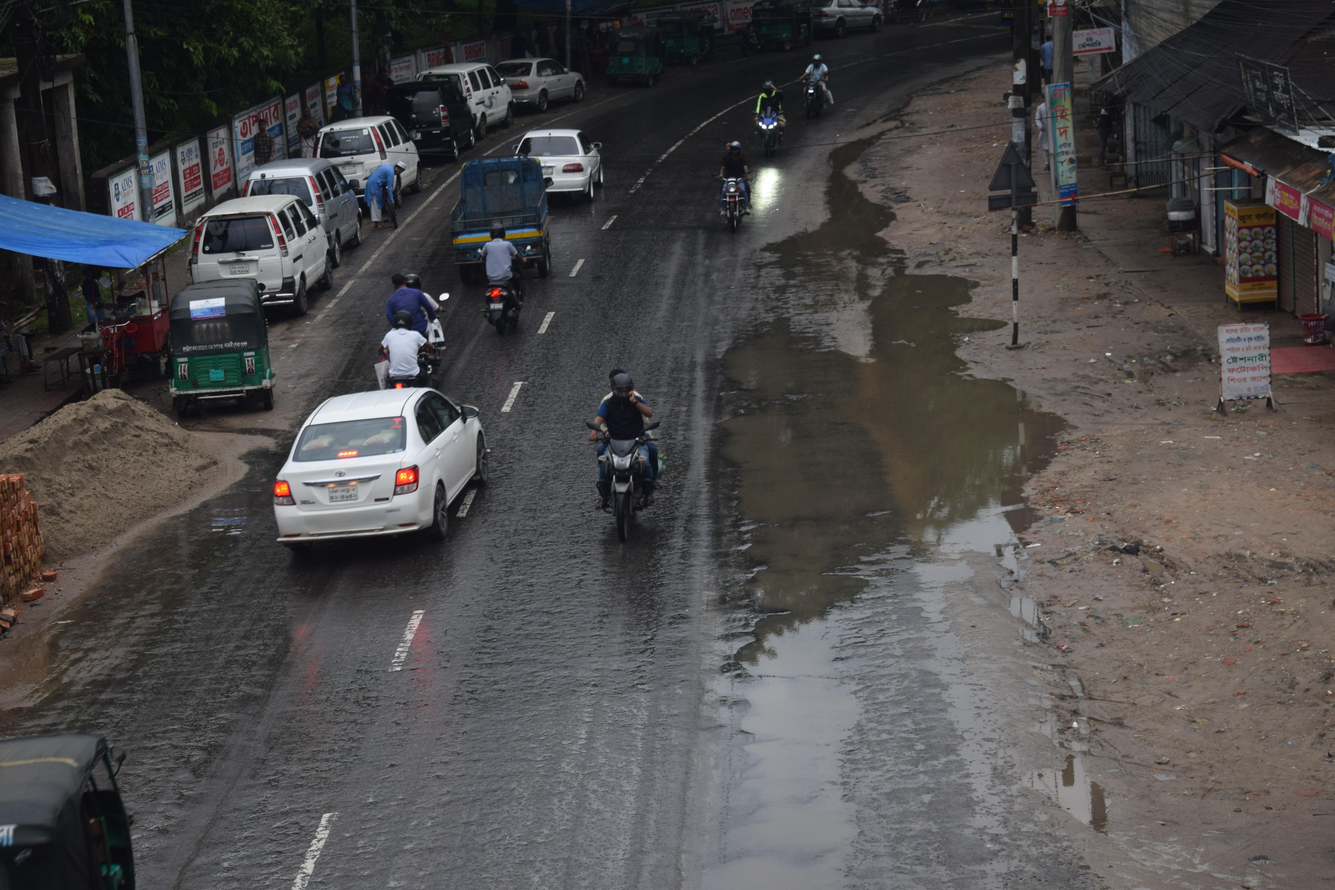Bike: (551, 339, 687, 570), (455, 204, 556, 349), (694, 121, 766, 256), (784, 36, 847, 147), (734, 64, 800, 167)
Car: (239, 375, 524, 569), (178, 200, 364, 317), (295, 104, 437, 210), (502, 110, 623, 210), (488, 43, 602, 115)
Truck: (430, 139, 573, 274)
